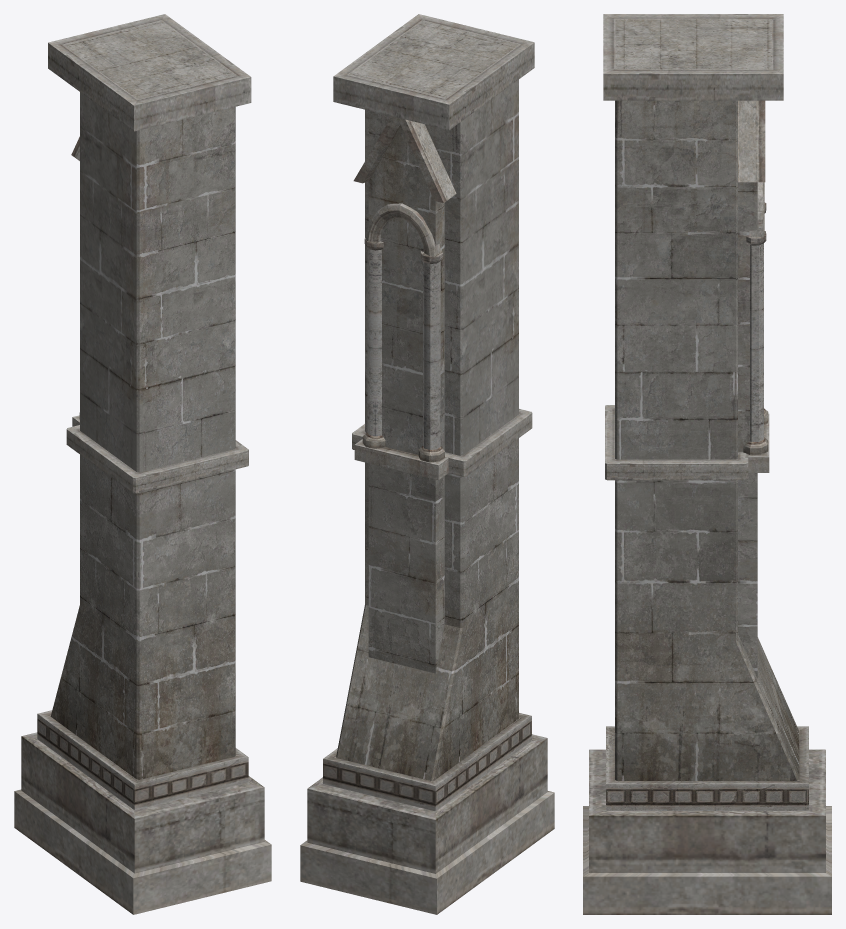
File: bg_lut_lucastle_churchunderprop03_sm_msj.FBX
3 renders of one model, left to right at view 1: azimuth 30°, elevation 25°; view 2: azimuth 150°, elevation 25°; view 3: azimuth 270°, elevation 25°, orthographic. The views are drawn at different scales.
Parts seen in each view (by area): view 1: bg_lut_lucastle_churchunderprop03_sm_msj; view 2: bg_lut_lucastle_churchunderprop03_sm_msj; view 3: bg_lut_lucastle_churchunderprop03_sm_msj.
Boxes of the visible parts, bbox=[...] form: bg_lut_lucastle_churchunderprop03_sm_msj: bbox=[14, 14, 271, 914]; bg_lut_lucastle_churchunderprop03_sm_msj: bbox=[300, 14, 554, 914]; bg_lut_lucastle_churchunderprop03_sm_msj: bbox=[583, 14, 831, 914].
Bounding box in the file's own units: 87.82 × 486 × 131.
